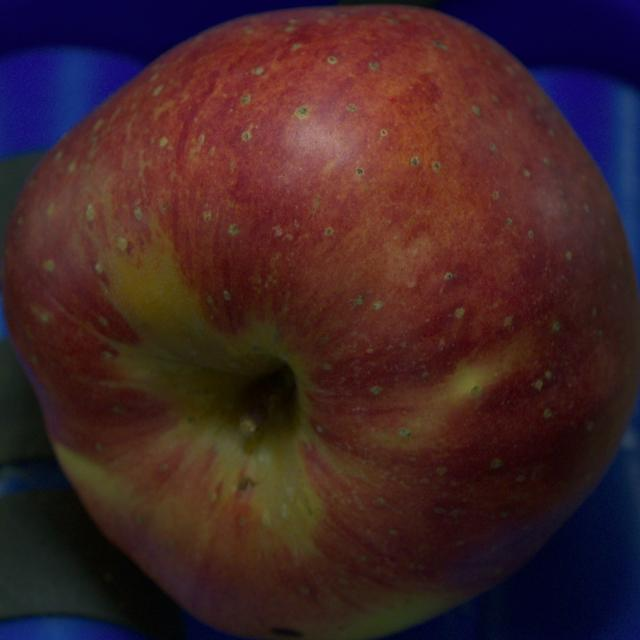apple: (1, 5, 639, 639)
pest: (271, 628, 303, 638), (238, 476, 255, 490)
